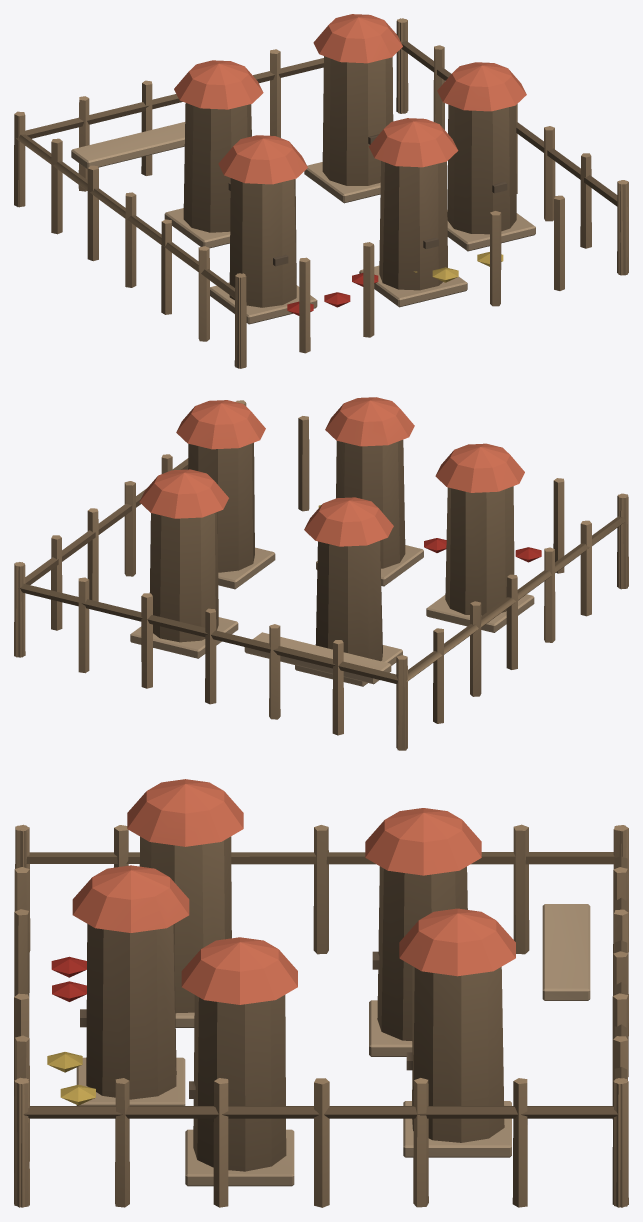
Rendered from bld_paseka_e1.glb.
The picture shows the model from 3 angles, top to bottom: view 1: azimuth 30°, elevation 25°; view 2: azimuth 150°, elevation 25°; view 3: azimuth 270°, elevation 25°; orthographic projection. The views are drawn at different scales.
Parts seen in each view (by area): view 1: paseka; view 2: paseka; view 3: paseka.
Part boxes in pixels (x1,y1,x2,y2): paseka: (14, 14, 628, 368); paseka: (14, 397, 628, 750); paseka: (14, 779, 628, 1207).
Bounding box in the file's own units: 0.9043 × 0.36 × 0.9039.
